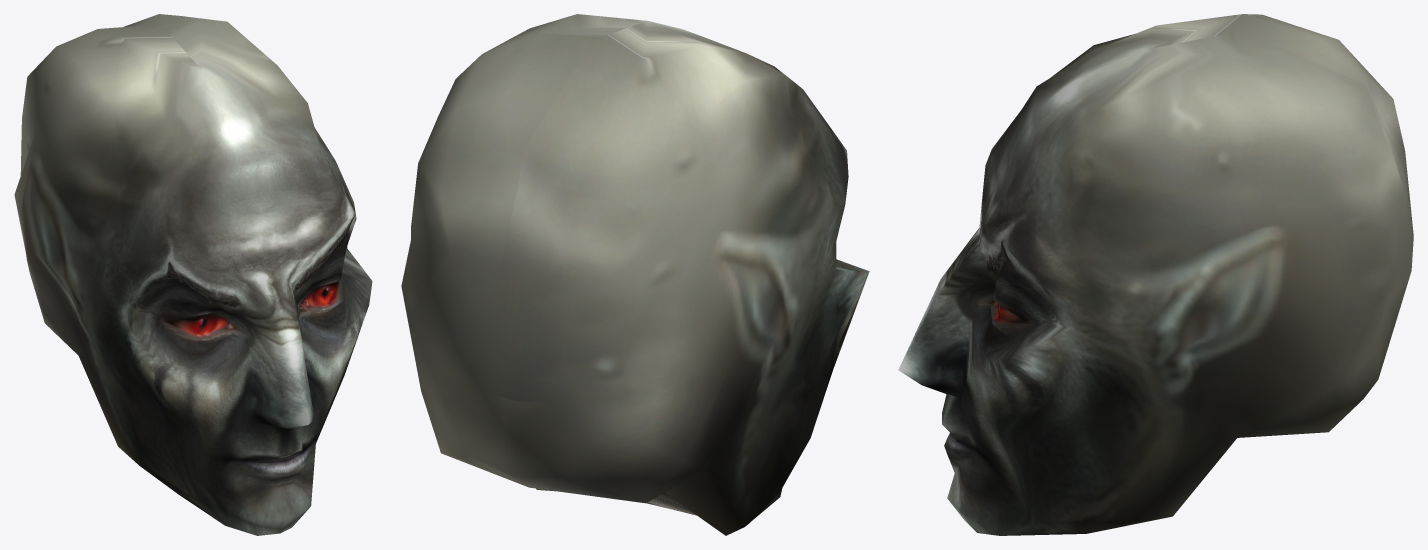
Rendered from b_n_dark elf_m_head_13.glb.
The picture shows the model from 3 angles, left to right: view 1: azimuth 30°, elevation 25°; view 2: azimuth 150°, elevation 25°; view 3: azimuth 270°, elevation 25°; orthographic projection. The views are drawn at different scales.
Parts seen in each view (by area): view 1: Tri B_N_Dark Elf_M_Head_13; view 2: Tri B_N_Dark Elf_M_Head_13; view 3: Tri B_N_Dark Elf_M_Head_13.
Boxes of the visible parts, x1,y1,x2,y2 form: Tri B_N_Dark Elf_M_Head_13: [14, 14, 372, 535]; Tri B_N_Dark Elf_M_Head_13: [401, 14, 869, 535]; Tri B_N_Dark Elf_M_Head_13: [898, 14, 1413, 535].
Size of the model in its own units: 0.0913 by 0.1513 by 0.1442.
Materials: 1 (1 with a texture image).
